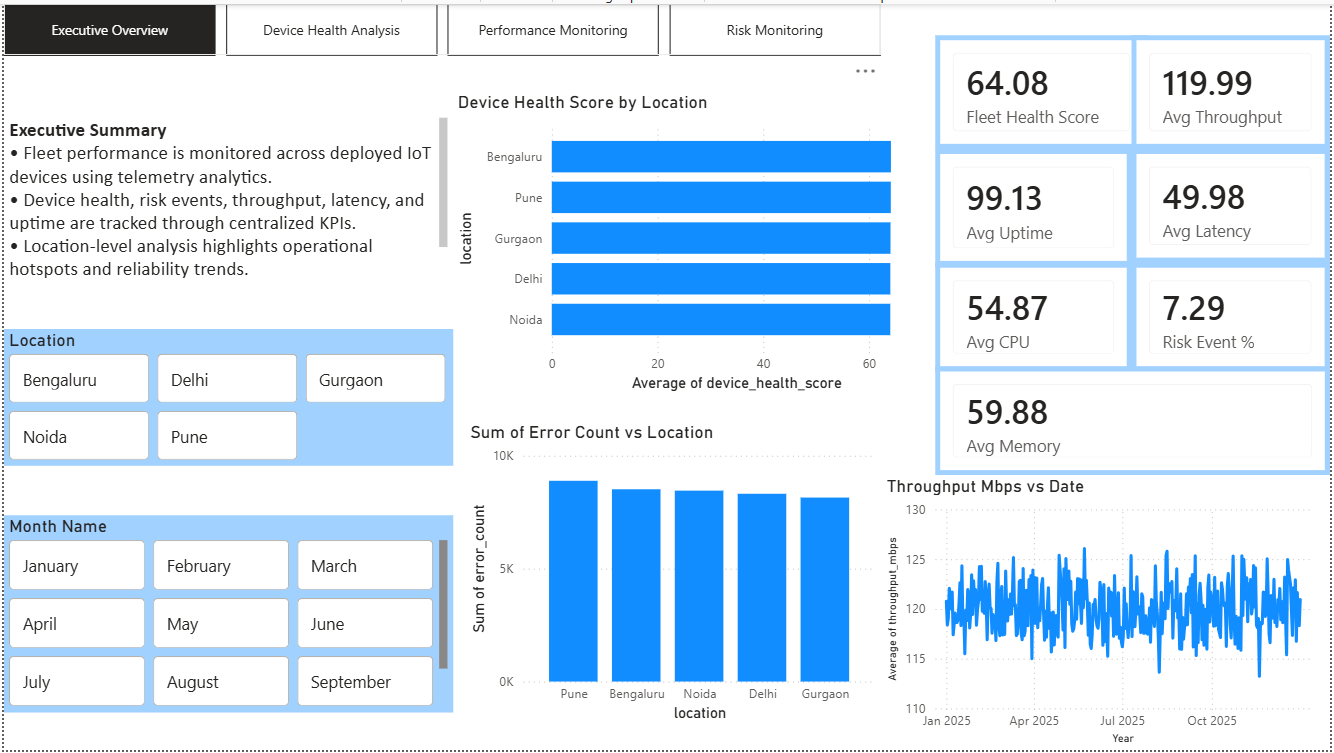

The dashboard page shown, as its layout file describes it:
{"tool":"powerbi","page":{"name":"Executive Overview","canvas":[1280,720],"ordinal":0},"visuals":[{"type":"cardVisual","fields":{"Data":["telemetry_clean.Fleet Health Score","telemetry_clean.Fleet Health Score"]},"box":[898.3,30,205,110],"z":0},{"type":"cardVisual","fields":{"Data":["telemetry_clean.Avg Latency"]},"box":[1088.3,140,191.7,110],"z":1000},{"type":"cardVisual","fields":{"Data":["telemetry_clean.Risk Event %"]},"box":[1088.3,250,191.7,105],"z":2000},{"type":"cardVisual","fields":{"Data":["telemetry_clean.Avg CPU"]},"box":[898.3,250,190,105],"z":3000},{"type":"cardVisual","fields":{"Data":["telemetry_clean.Avg Memory"]},"box":[898.3,350,381.7,105],"z":4000},{"type":"cardVisual","fields":{"Data":["telemetry_clean.Avg Uptime"]},"box":[898.3,140,190,113.3],"z":5000},{"type":"cardVisual","fields":{"Data":["telemetry_clean.Avg Throughput","telemetry_clean.Avg Throughput"]},"box":[1088.3,30,191.7,110],"z":6000},{"type":"clusteredColumnChart","title":"Sum of Error Count vs Location","fields":{"Category":["telemetry_clean.location"],"Y":["Sum(telemetry_clean.error_count)"]},"box":[445,403.3,401.7,295],"z":7000},{"type":"clusteredBarChart","title":" Device Health Score by Location","fields":{"Category":["telemetry_clean.location"],"Y":["Avg(telemetry_clean.device_health_score)"]},"box":[433.3,85,465,295],"z":8000},{"type":"lineChart","title":" Throughput Mbps vs Date","fields":{"Y":["Avg(telemetry_clean.throughput_mbps)"],"Category":["telemetry_clean.date.Variation.Date Hierarchy.Year","telemetry_clean.date.Variation.Date Hierarchy.Month","telemetry_clean.date.Variation.Date Hierarchy.Day"]},"box":[846.7,455,433.3,265],"z":9000},{"type":"advancedSlicerVisual","title":"Location","fields":{"Values":["telemetry_clean.location"]},"box":[0,313.3,433.3,131.7],"z":10000},{"type":"advancedSlicerVisual","title":"Month Name","fields":{"Values":["telemetry_clean.month_name"]},"box":[0,493.3,433.3,190],"z":11000},{"type":"textbox","box":[0,105,433.3,168.3],"z":14000},{"type":"pageNavigator","box":[0,0,846.7,50],"z":14001}]}

Visuals, with their boxes in screenshot pixels (x1, y1, x2, y2), scaled from the page's 1280x720 canvas onto the 1334x753 screenshot:
cardVisual - telemetry_clean.Fleet Health Score x telemetry_clean.Fleet Health Score: x1=936 y1=31 x2=1150 y2=146
cardVisual - telemetry_clean.Avg Latency: x1=1134 y1=146 x2=1333 y2=261
cardVisual - telemetry_clean.Risk Event %: x1=1134 y1=261 x2=1333 y2=371
cardVisual - telemetry_clean.Avg CPU: x1=936 y1=261 x2=1134 y2=371
cardVisual - telemetry_clean.Avg Memory: x1=936 y1=366 x2=1333 y2=476
cardVisual - telemetry_clean.Avg Uptime: x1=936 y1=146 x2=1134 y2=265
cardVisual - telemetry_clean.Avg Throughput x telemetry_clean.Avg Throughput: x1=1134 y1=31 x2=1333 y2=146
"Sum of Error Count vs Location" clusteredColumnChart: x1=464 y1=422 x2=882 y2=730
" Device Health Score by Location" clusteredBarChart: x1=452 y1=89 x2=936 y2=397
" Throughput Mbps vs Date" lineChart: x1=882 y1=476 x2=1333 y2=752
"Location" advancedSlicerVisual: x1=0 y1=328 x2=452 y2=465
"Month Name" advancedSlicerVisual: x1=0 y1=516 x2=452 y2=715
textbox: x1=0 y1=110 x2=452 y2=286
pageNavigator: x1=0 y1=0 x2=882 y2=52
